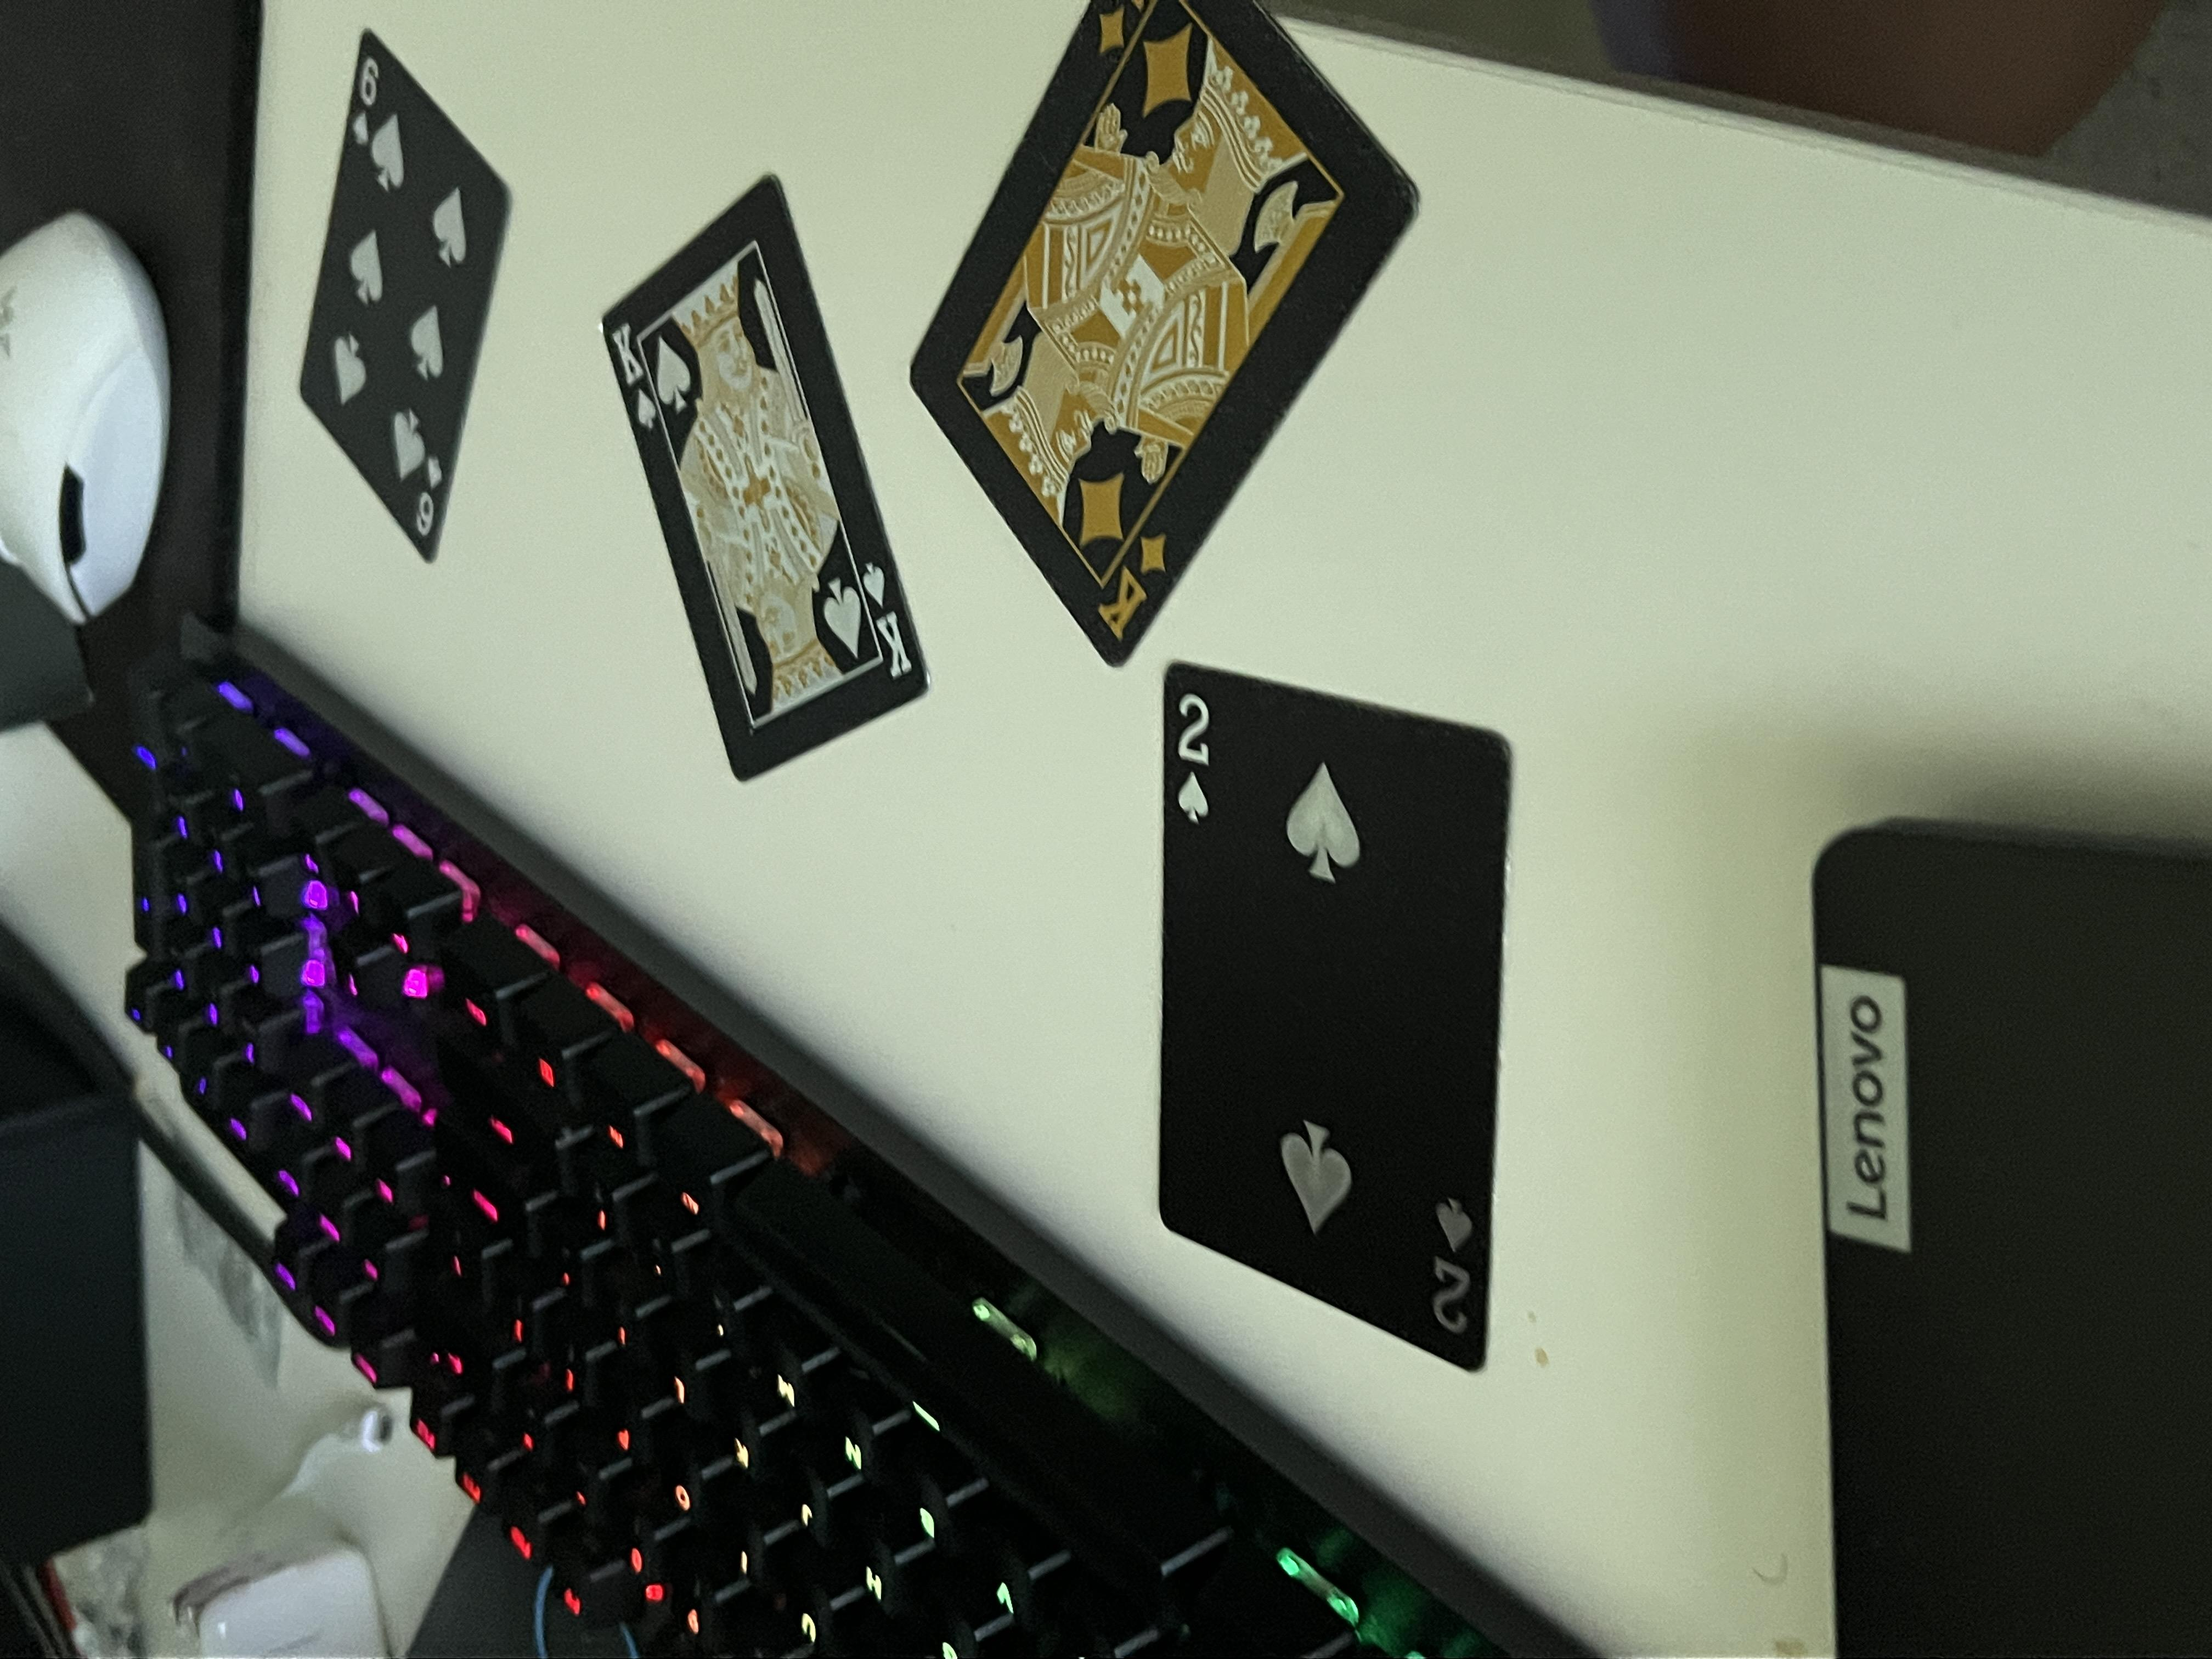2S: (409, 1060, 648, 1119), (1097, 870, 1317, 927)
6S: (1480, 296, 1627, 343), (2019, 254, 2151, 300)
KD: (1360, 810, 1536, 885)
KS: (1287, 647, 1507, 692), (1639, 460, 1789, 493)
